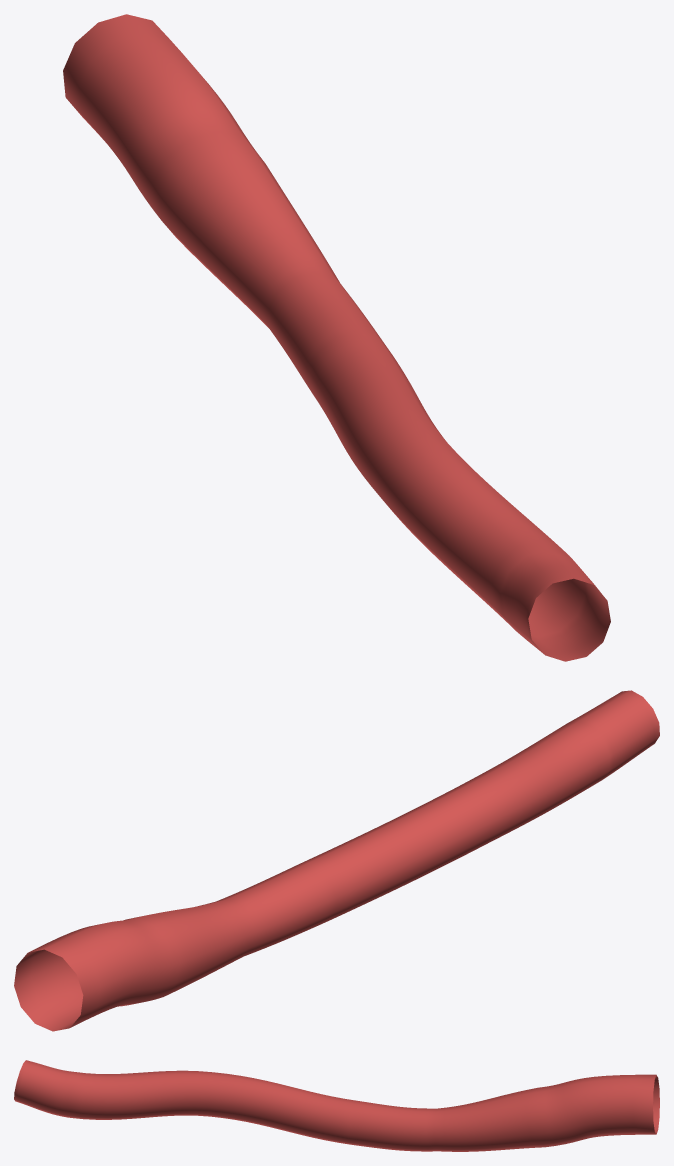
3 views of the same model, one above another, from view 1: azimuth 30°, elevation 25°; view 2: azimuth 150°, elevation 25°; view 3: azimuth 270°, elevation 25° (orthographic). The views are drawn at different scales.
Parts seen in each view (by area): view 1: 右侧颈外动脉; view 2: 右侧颈外动脉; view 3: 右侧颈外动脉.
Part boxes in pixels (box(x1,y1,x2,y2)): 右侧颈外动脉: box(63, 14, 610, 661); 右侧颈外动脉: box(14, 690, 659, 1031); 右侧颈外动脉: box(14, 1060, 659, 1151).
Size of the model in its own units: 0.0267 by 0.0155 by 0.1109.
